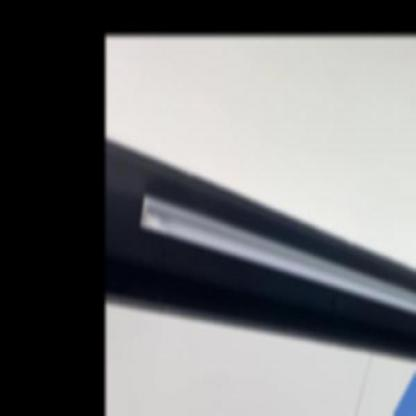light_off: (130, 143, 415, 358)
